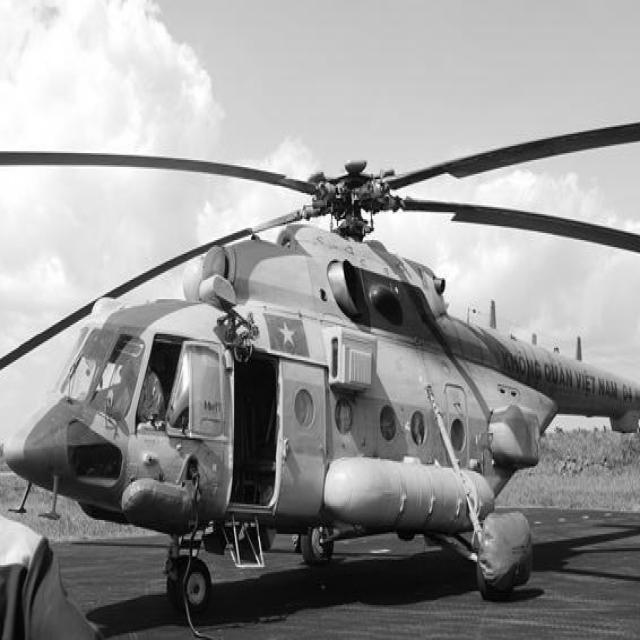helicopter: (10, 62, 640, 552)
